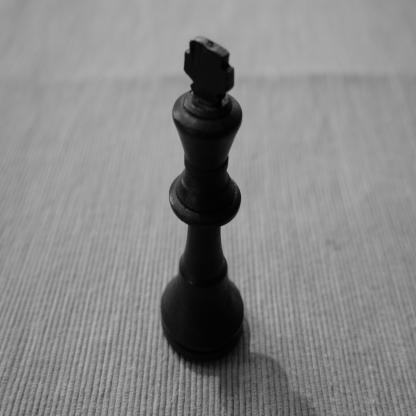black-king: (160, 34, 244, 366)
